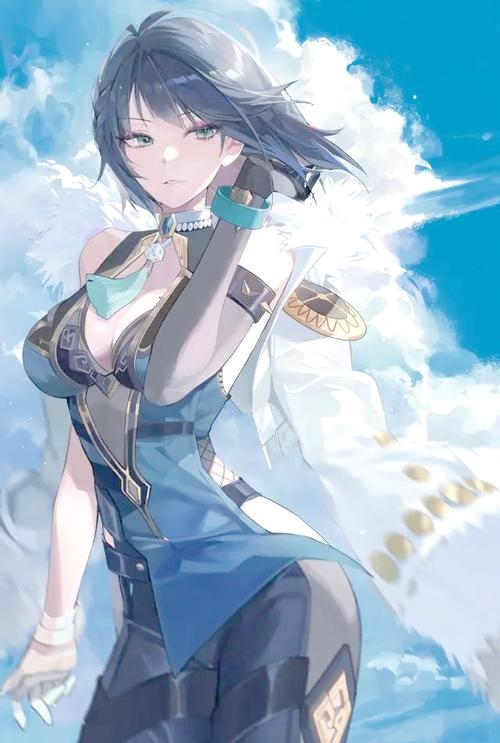夜兰: (6, 14, 370, 743)
